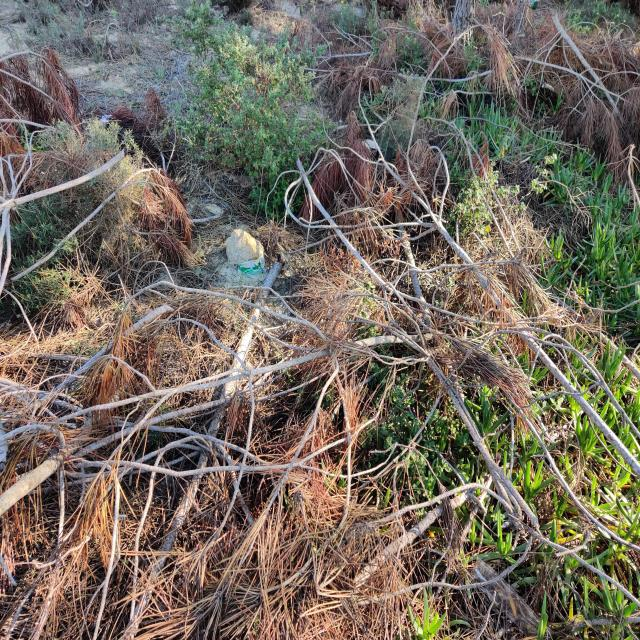litter: (237, 256, 268, 279)
